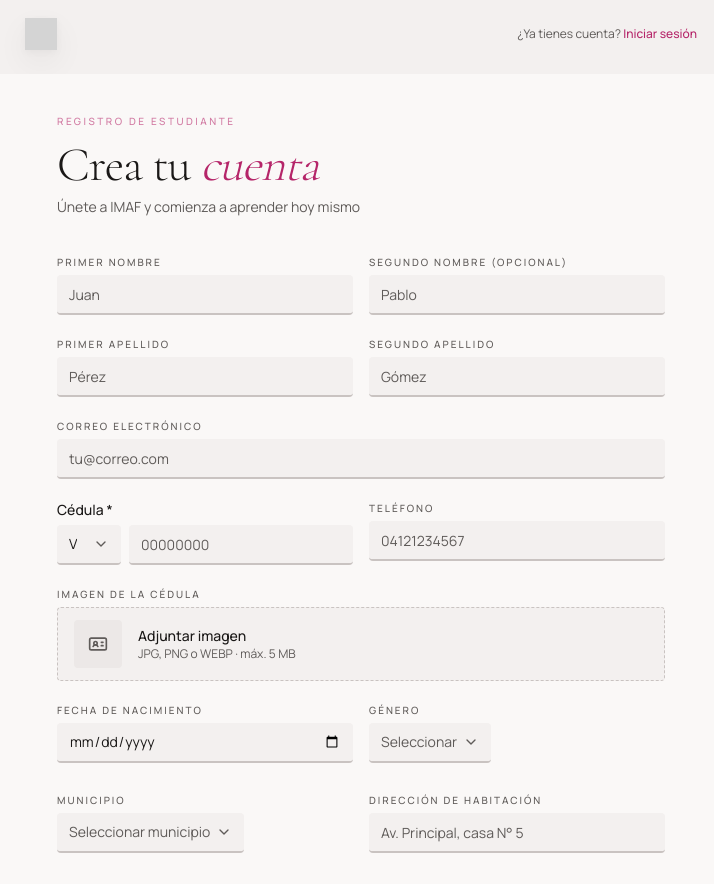
it: Página de registro › sanitiza la cédula: elimina las letras mientras se escribe
Type "12ab34" into the field labelled "Cédula *".
click(241, 545); type("12ab34")  # box [129,525,353,565]
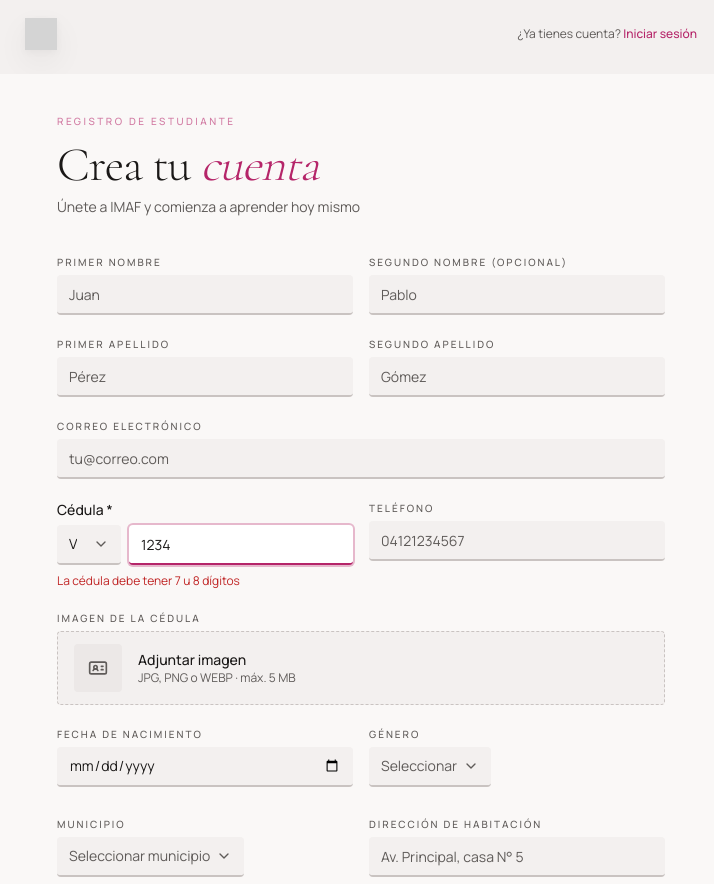
Expected: the field labelled "Cédula *" holds "1234", [129,525,353,565]
